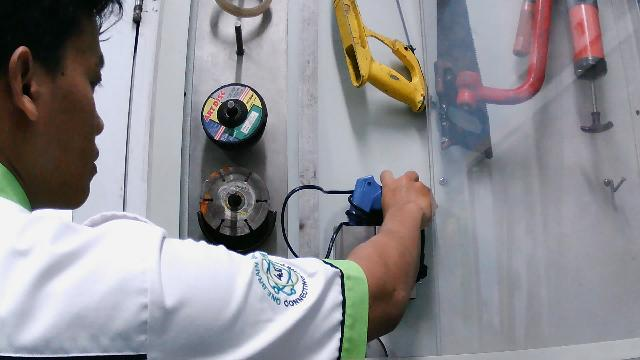solder_electrical: (307, 158, 438, 318)
